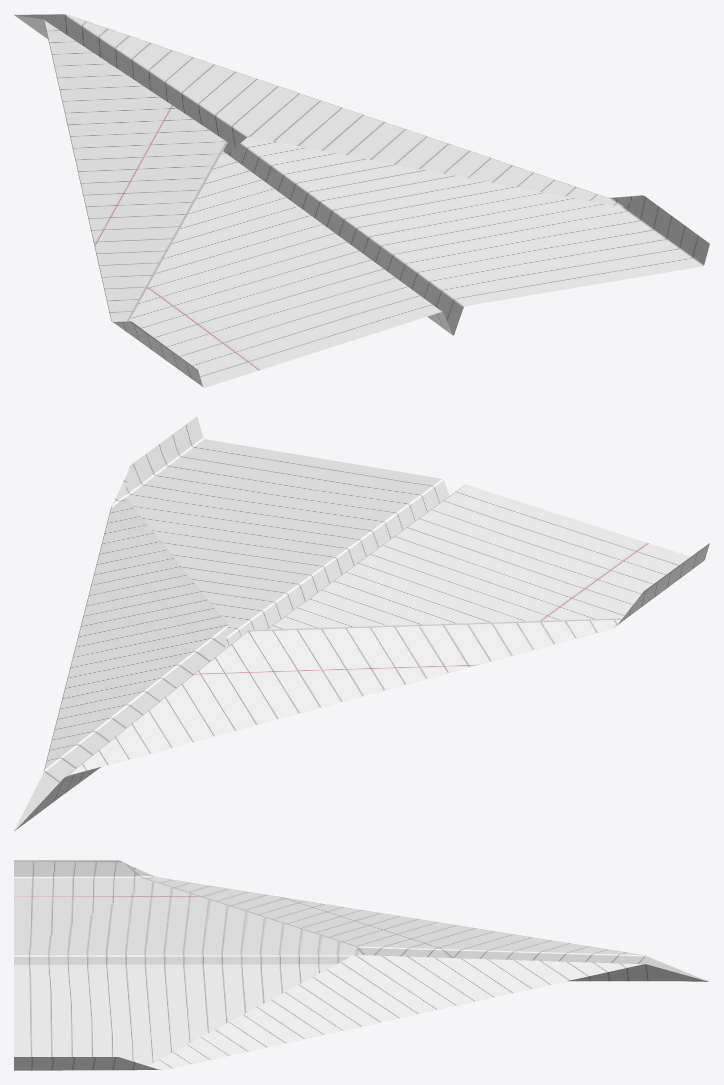
Rendered from paper plane.fbx.
3 views of the same model, one above another, from view 1: azimuth 30°, elevation 25°; view 2: azimuth 150°, elevation 25°; view 3: azimuth 270°, elevation 25° (orthographic). The views are drawn at different scales.
Parts seen in each view (by area): view 1: paper plane; view 2: paper plane; view 3: paper plane.
Boxes of the visible parts, x1,y1,x2,y2 form: paper plane: (14,14,709,387); paper plane: (14,416,709,831); paper plane: (14,860,709,1070).
Size of the model in its own units: 39.76 by 2.94 by 59.14.
